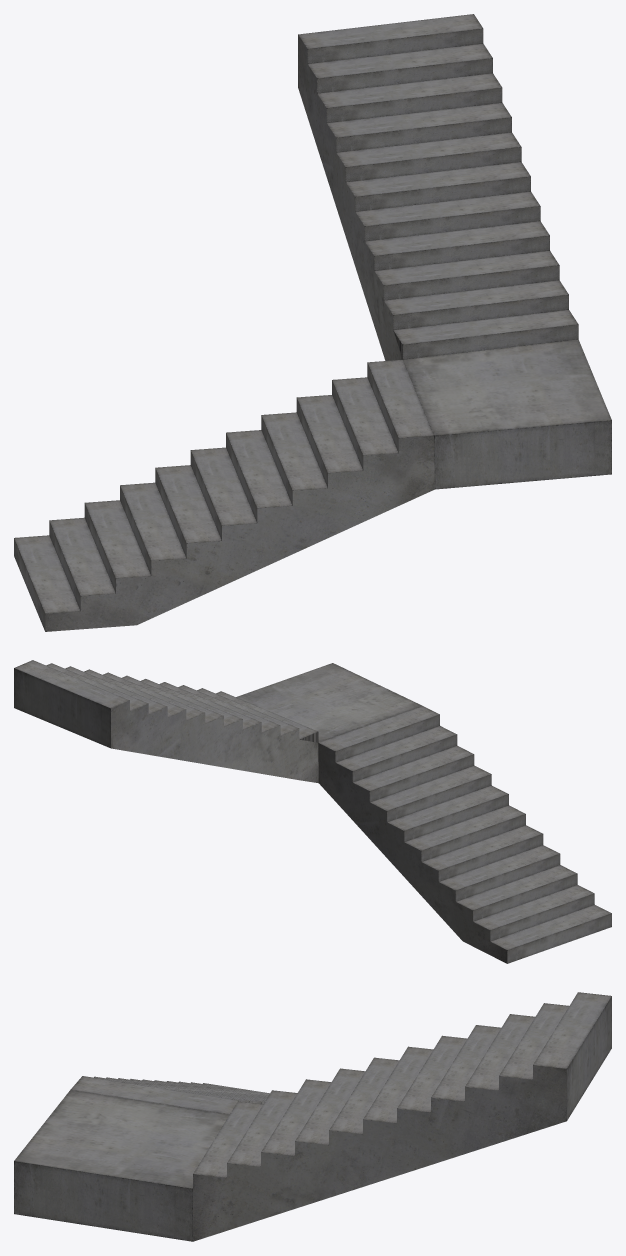
3 views of the same model, one above another, from view 1: azimuth 30°, elevation 25°; view 2: azimuth 150°, elevation 25°; view 3: azimuth 270°, elevation 25° (orthographic). The views are drawn at different scales.
Parts seen in each view (by area): view 1: Cube.040; view 2: Cube.040; view 3: Cube.040.
Part boxes in pixels (left/top/right/bottom): Cube.040: left=14, top=14, right=611, bottom=631; Cube.040: left=14, top=660, right=611, bottom=963; Cube.040: left=14, top=992, right=611, bottom=1241.
Size of the model in its own units: 1115 by 576 by 960.
